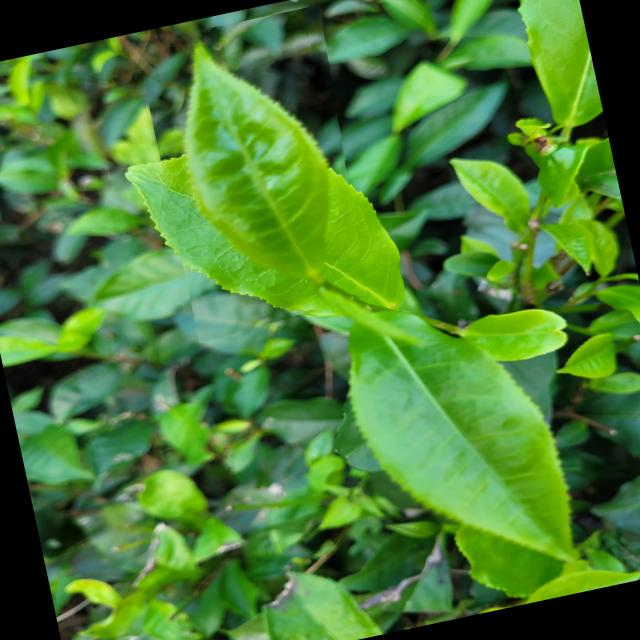Catagory A(1-2 days): (136, 4, 384, 343)
